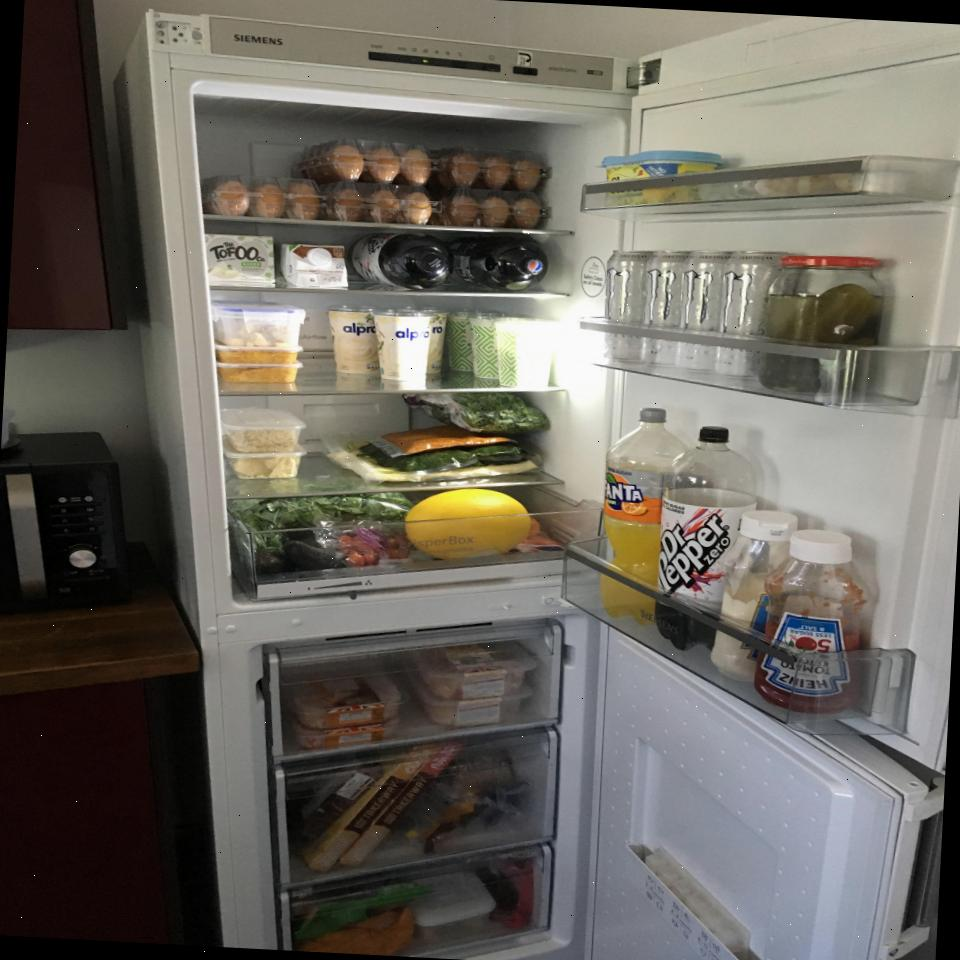Aguacate: (282, 540, 348, 573), (254, 548, 282, 576)
Carne pollo: (284, 670, 402, 733), (417, 646, 537, 703), (414, 681, 536, 730), (289, 715, 398, 754)
Huevos: (292, 136, 443, 186), (198, 174, 330, 222), (439, 144, 554, 192), (326, 180, 443, 226), (440, 186, 550, 232)
Tomate: (338, 532, 411, 570)
Yogur: (490, 316, 560, 390), (369, 306, 435, 382), (466, 312, 528, 382), (320, 303, 379, 375), (444, 308, 500, 374), (413, 306, 449, 374)
ketchup: (752, 526, 872, 716)
mayonnaise: (708, 507, 800, 685)
